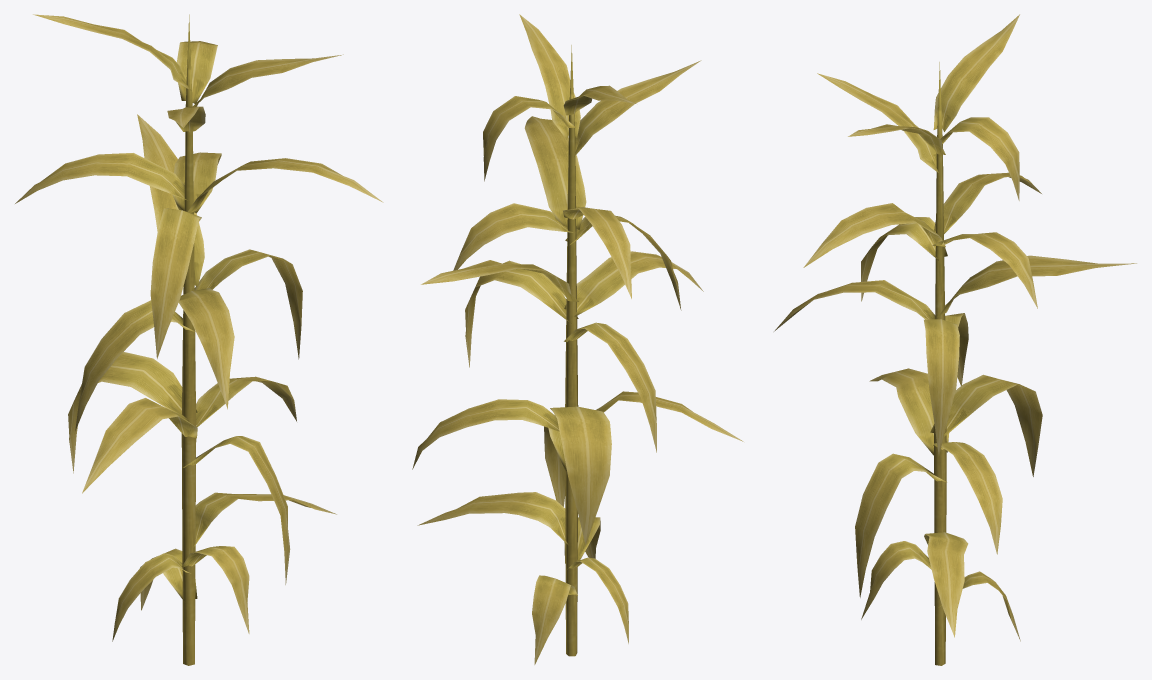
File: corn_old.glb
3 views of the same model, side by side, from view 1: azimuth 30°, elevation 25°; view 2: azimuth 150°, elevation 25°; view 3: azimuth 270°, elevation 25° (orthographic). The views are drawn at different scales.
Parts seen in each view (by area): view 1: Cylinder, Plane.032, Plane.042, Plane.006, Plane.003, Plane.045, Plane.007, Plane.033, Plane.005, Plane.043, Plane.052, Plane.047 (+9 smaller); view 2: Cylinder, Plane.042, Plane.002, Plane.048, Plane.044, Plane.004, Plane.052, Plane.006, Plane.007, Plane.051, Plane.033, Plane.046 (+9 smaller); view 3: Cylinder, Plane.042, Plane.043, Plane.033, Plane.053, Plane.048, Plane.044, Plane.002, Plane.045, Plane.005, Plane.050, Plane.051 (+8 smaller).
Part boxes in pixels (bbox=[...]): Cylinder: bbox=[181, 14, 196, 665]; Plane.032: bbox=[150, 208, 201, 358]; Plane.042: bbox=[68, 352, 197, 473]; Plane.006: bbox=[178, 288, 234, 409]; Plane.003: bbox=[15, 153, 189, 203]; Plane.045: bbox=[82, 398, 197, 493]; Plane.007: bbox=[75, 300, 195, 430]; Plane.033: bbox=[194, 249, 302, 359]; Plane.005: bbox=[137, 114, 204, 286]; Plane.043: bbox=[183, 436, 290, 584]; Plane.052: bbox=[193, 54, 343, 106]; Plane.047: bbox=[182, 546, 249, 633]; Cylinder: bbox=[565, 45, 578, 656]; Plane.042: bbox=[550, 406, 611, 545]; Plane.002: bbox=[524, 116, 586, 229]; Plane.048: bbox=[417, 492, 568, 545]; Plane.044: bbox=[412, 399, 559, 469]; Plane.004: bbox=[453, 203, 576, 270]; Plane.052: bbox=[519, 14, 580, 139]; Plane.006: bbox=[564, 251, 703, 316]; Plane.007: bbox=[564, 322, 656, 452]; Plane.051: bbox=[566, 60, 701, 156]; Plane.033: bbox=[465, 260, 578, 367]; Plane.046: bbox=[532, 575, 577, 664]; Cylinder: bbox=[934, 62, 946, 665]; Plane.042: bbox=[930, 374, 1042, 476]; Plane.043: bbox=[855, 453, 946, 597]; Plane.033: bbox=[924, 319, 959, 456]; Plane.053: bbox=[933, 14, 1019, 131]; Plane.048: bbox=[924, 532, 968, 637]; Plane.044: bbox=[933, 442, 1002, 554]; Plane.002: bbox=[803, 203, 945, 267]; Plane.045: bbox=[869, 368, 949, 455]; Plane.005: bbox=[937, 255, 1136, 317]; Plane.050: bbox=[940, 117, 1019, 200]; Plane.051: bbox=[817, 73, 938, 172].
Size of the model in its own units: 1.1 by 2.25 by 1.24.
1 material, 1 textured.
